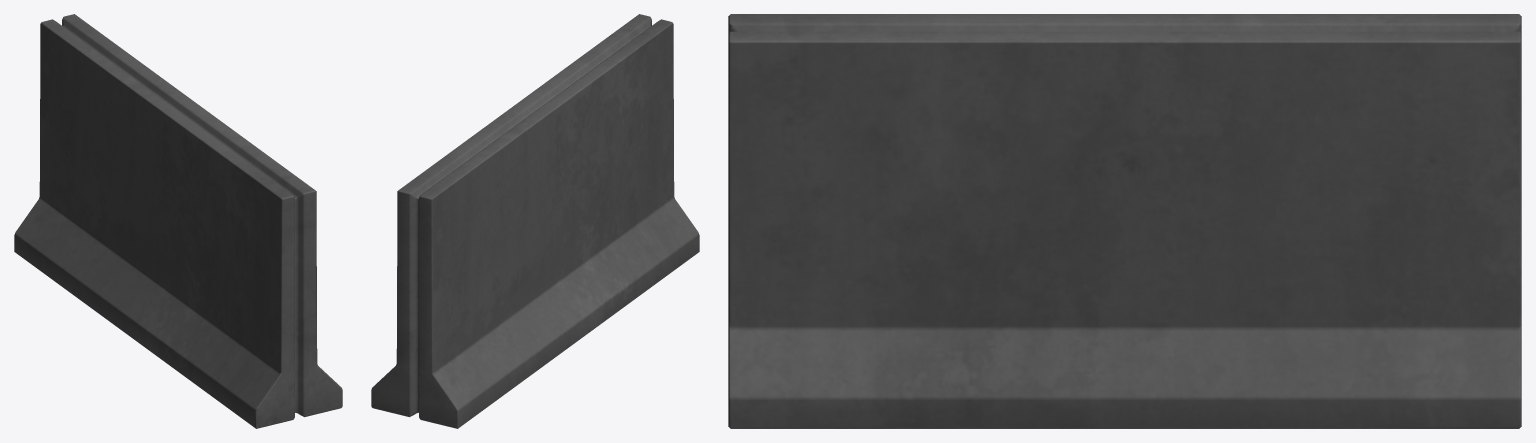
File: Barrier.fbx
3 renders of one model, left to right at view 1: azimuth 30°, elevation 25°; view 2: azimuth 150°, elevation 25°; view 3: azimuth 270°, elevation 25°, orthographic. The views are drawn at different scales.
Visible parts, largest first — view 1: Barrier; view 2: Barrier; view 3: Barrier.
Boxes of the visible parts, x1=… form: Barrier: x1=14, y1=14, x2=342, y2=428; Barrier: x1=371, y1=14, x2=699, y2=428; Barrier: x1=728, y1=14, x2=1521, y2=428.
Size of the model in its own units: 36.75 by 89.98 by 176.
